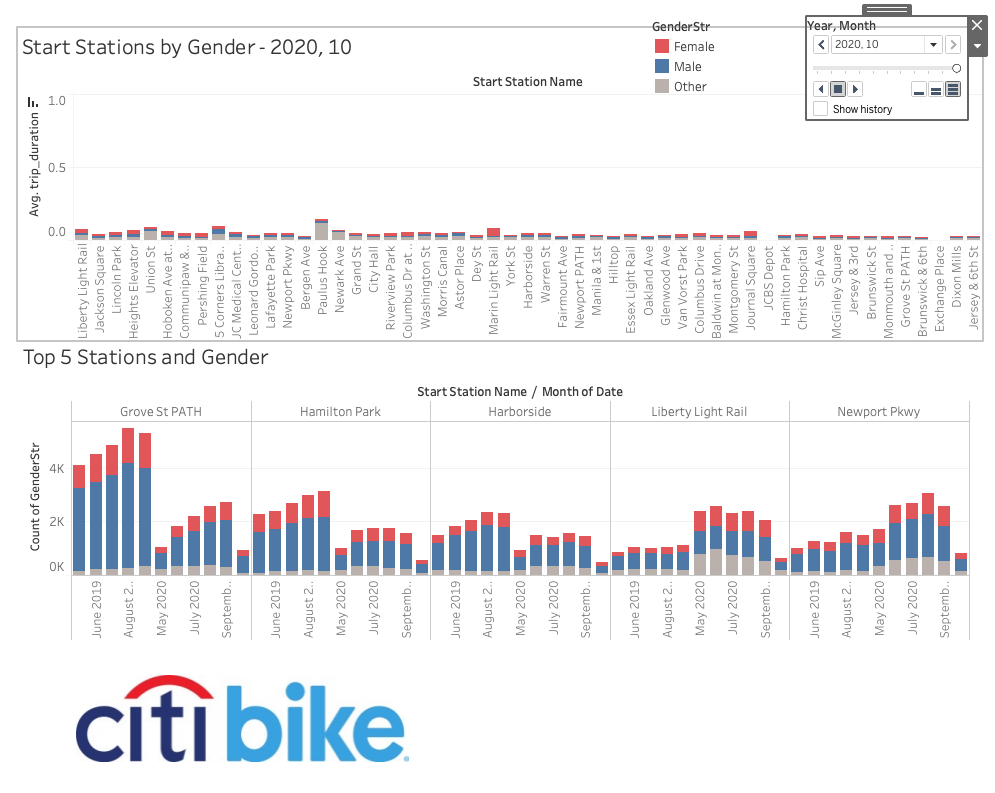

The page's visual inventory and layout, read from the dashboard file:
{"tool":"tableau","page":{"name":"CitiBike Gender Pre Post Covid","canvas":[1000,800],"ordinal":1},"visuals":[{"type":"worksheet","title":"Start Stations by Gender","mark":"Automatic","rows":["Calculation_6304758013794369536"],"cols":["start station name"],"box":[810,19,160,102]},{"type":"worksheet","title":"Start Stations by Gender","mark":"Automatic","rows":["Calculation_6304758013794369536"],"cols":["start station name"],"param":"[federated.0xn84910432jv512tqdmm0lbs3no].[none:Calculation_6304758013797289986:n","box":[655,20,140,78]},{"type":"worksheet","title":"Start Stations by Gender","mark":"Automatic","rows":["Calculation_6304758013794369536"],"cols":["start station name"],"box":[21,30,964,312]},{"type":"worksheet","title":"Top 5 and Gender","mark":"Bar","rows":["Calculation_6304758013797289986"],"cols":["start station name","date"],"box":[22,340,951,303]},{"type":"worksheet","param":"/Users/timsamson/Pictures/Photos Library.photoslibrary/resources/derivatives/mas","box":[79,677,333,106]}]}

Visuals, with their boxes on the page's 1000x800 design canvas (x1, y1, x2, y2). These are canvas units, not pixel positions in the 995x793 screenshot, which may show the page scaled, cropped or inside an application window:
"Start Stations by Gender" worksheet: [x1=810, y1=19, x2=970, y2=121]
"Start Stations by Gender" worksheet: [x1=655, y1=20, x2=795, y2=98]
"Start Stations by Gender" worksheet: [x1=21, y1=30, x2=985, y2=342]
"Top 5 and Gender" worksheet (Bar marks): [x1=22, y1=340, x2=973, y2=643]
worksheet: [x1=79, y1=677, x2=412, y2=783]
